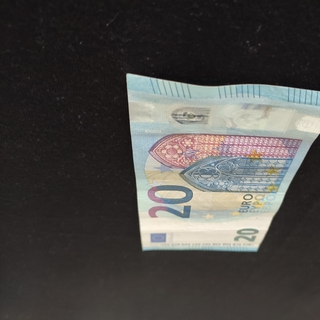20EUROFront: (123, 72, 320, 253)
